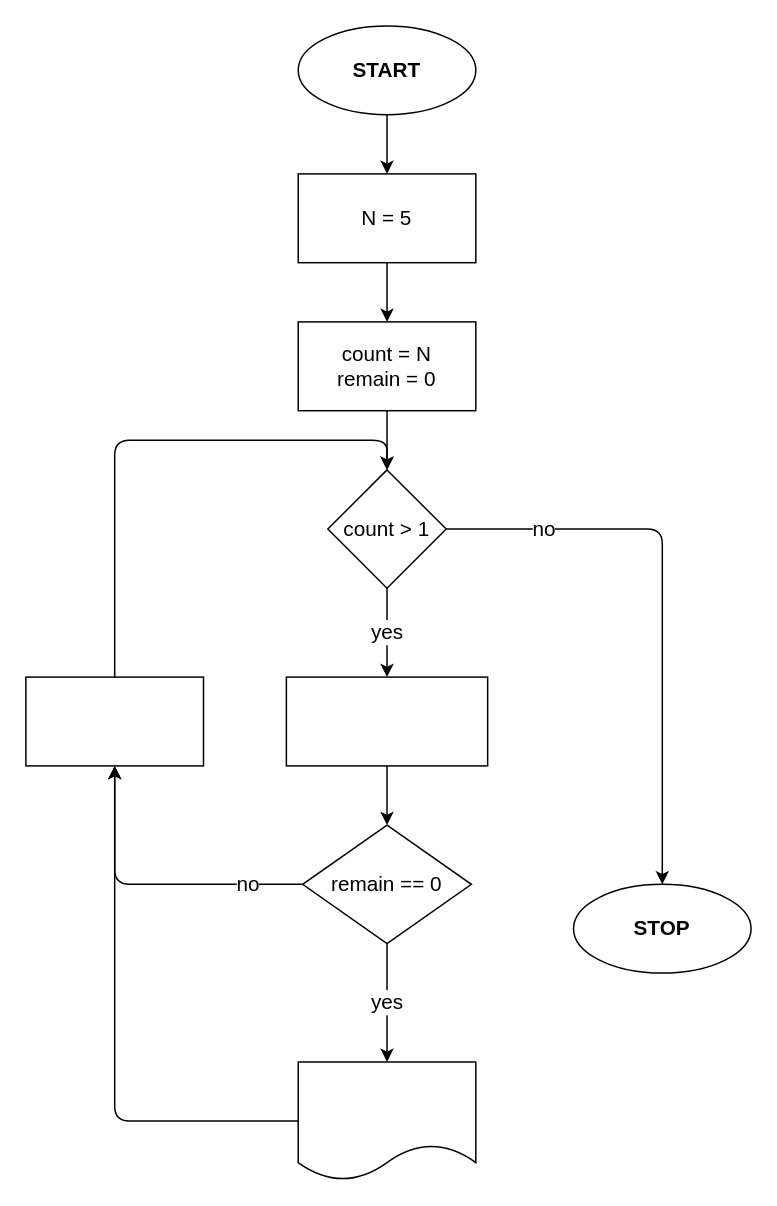
Some shapes in this 777 by 1206 pixel diagram are drawn without their labels. The box of each missing label's shape, as (x1, y1, x2, y2) in pixels:
count: (297, 1060, 476, 1180)
count = count - 1: (24, 676, 204, 766)
remain = count % 2: (285, 676, 488, 766)
